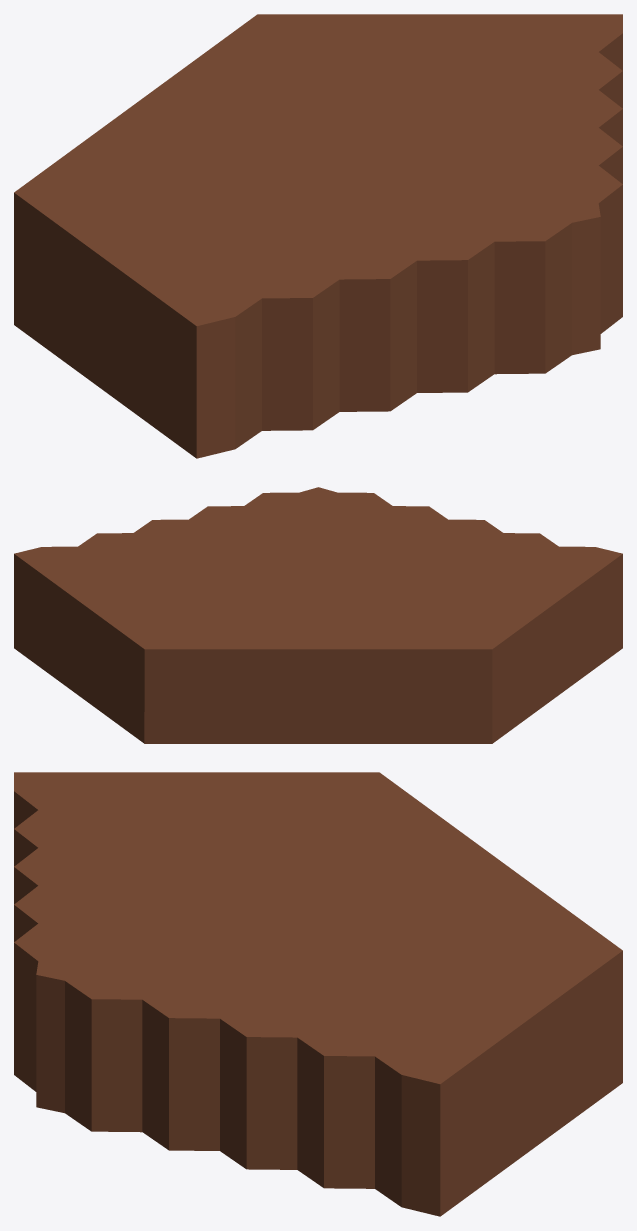
The model's file is _wooden_wall1.glb.
3 views of the same model, one above another, from view 1: azimuth 30°, elevation 25°; view 2: azimuth 150°, elevation 25°; view 3: azimuth 270°, elevation 25° (orthographic). The views are drawn at different scales.
Visible parts, largest first — view 1: WoodenWall4-col; view 2: WoodenWall4-col; view 3: WoodenWall4-col.
Part boxes in pixels (x1,y1,x2,y2): WoodenWall4-col: [14, 14, 622, 458]; WoodenWall4-col: [14, 487, 622, 743]; WoodenWall4-col: [14, 772, 622, 1216].
Bounding box in the file's own units: 1.52 × 0.3 × 1.25.
Materials: 1 (1 with a texture image).
